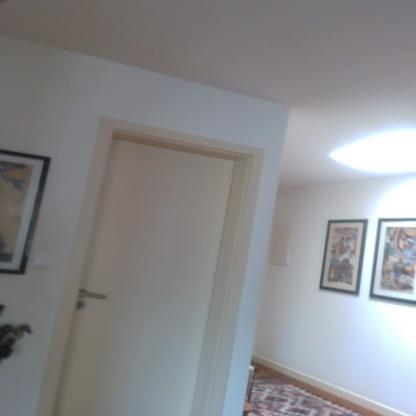door: (73, 136, 205, 414)
lever: (78, 291, 110, 301)
